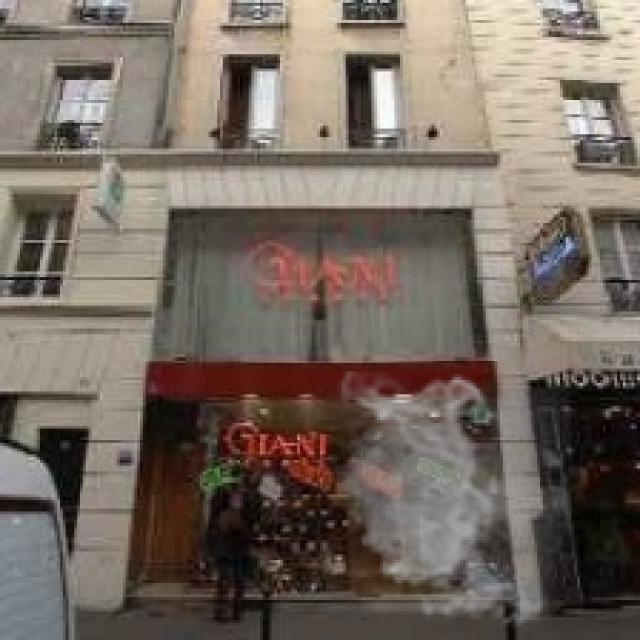smoke: (326, 372, 571, 634)
